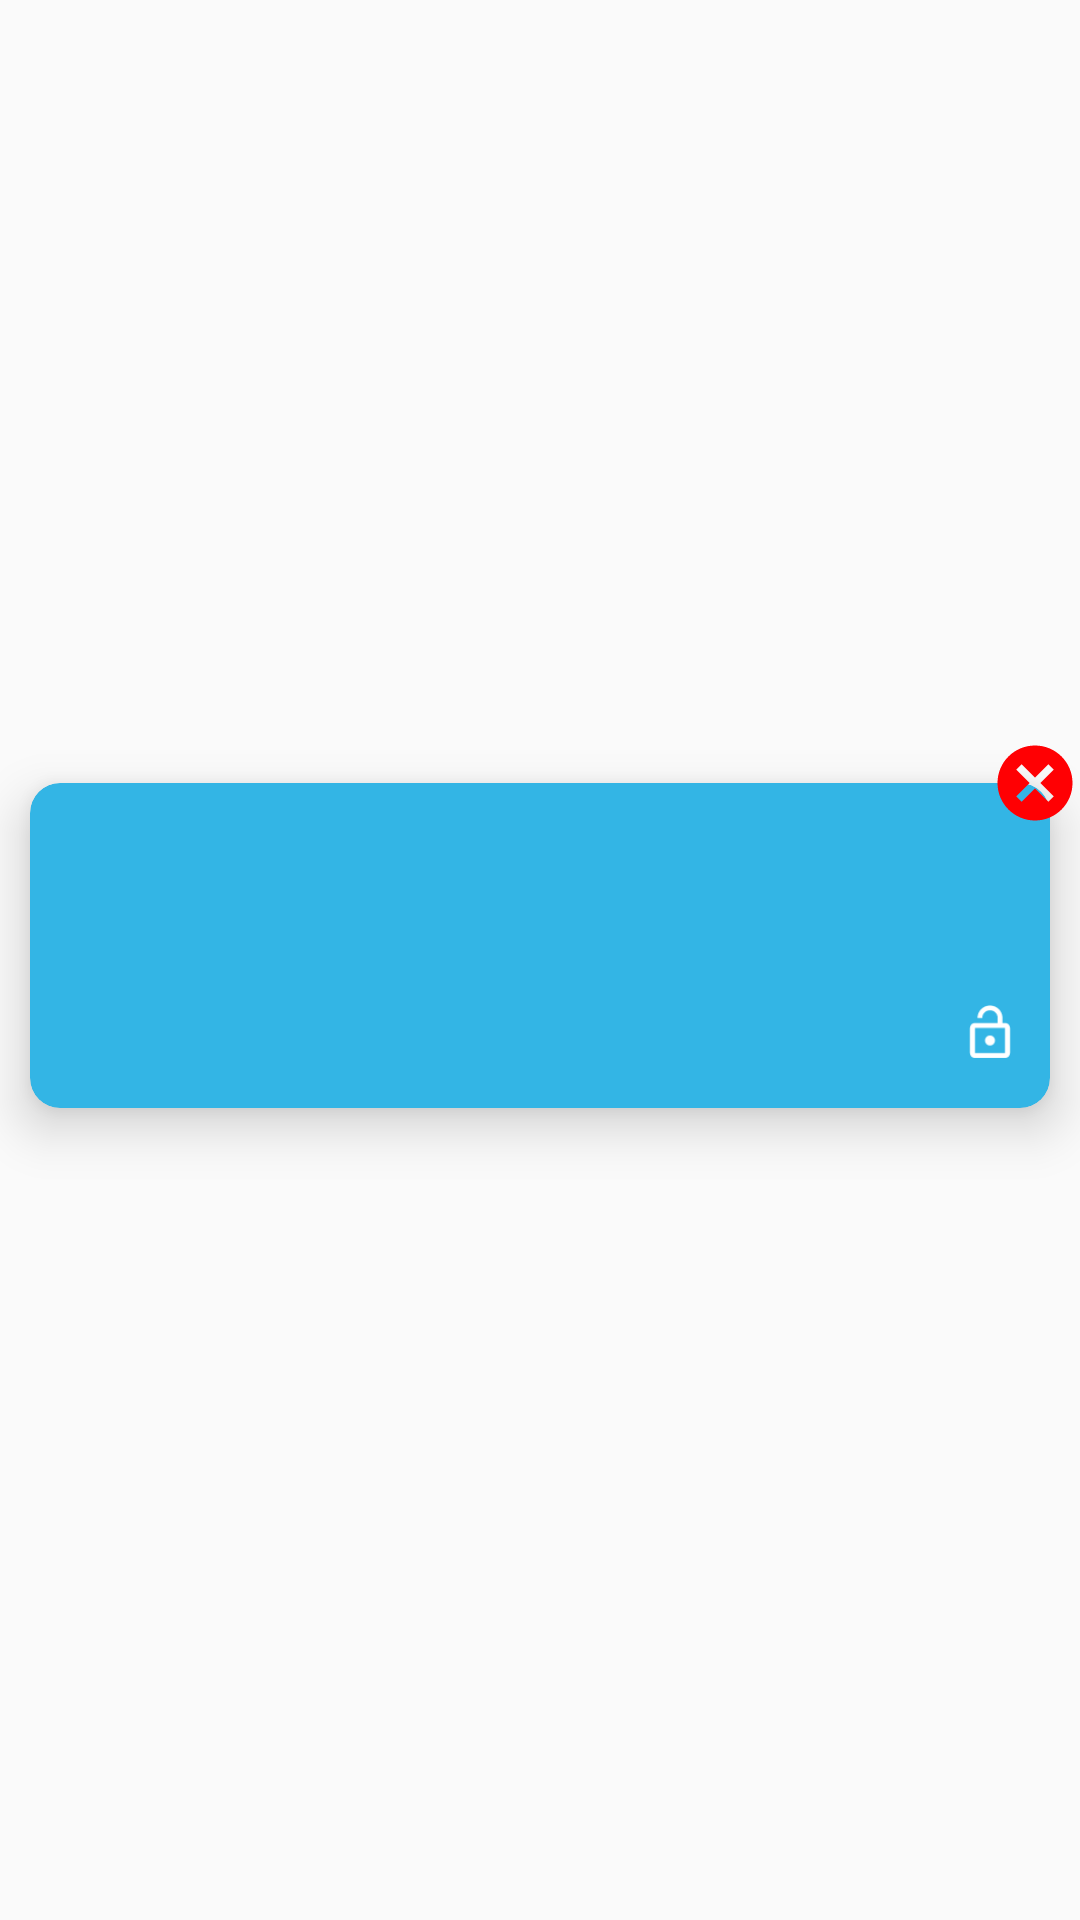

Icons on this 1080×1920 Android screen, each with the point to tap as point (x, y):
cancel: point (1035, 783)
lock open: point (990, 1031)
